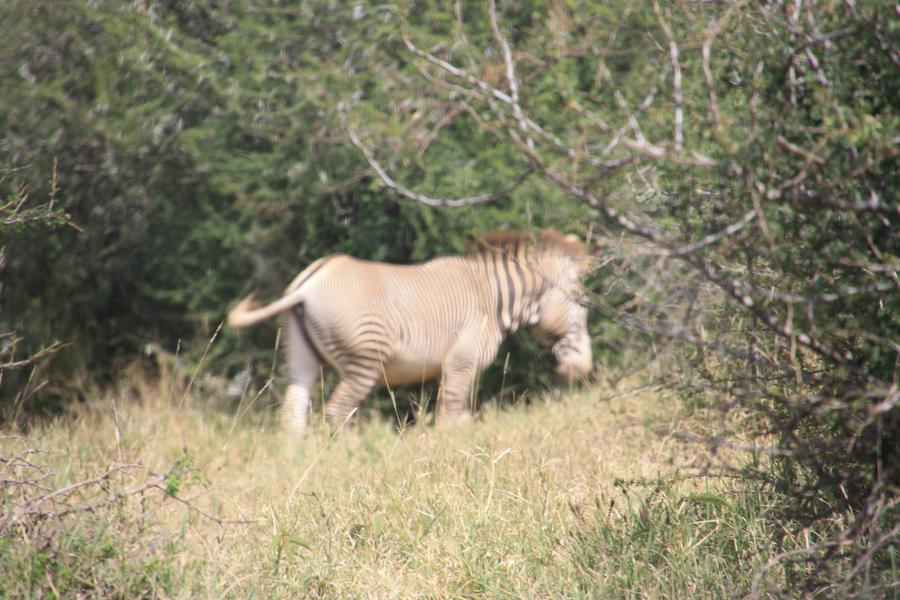zebra_grevys: (301, 251, 491, 364)
